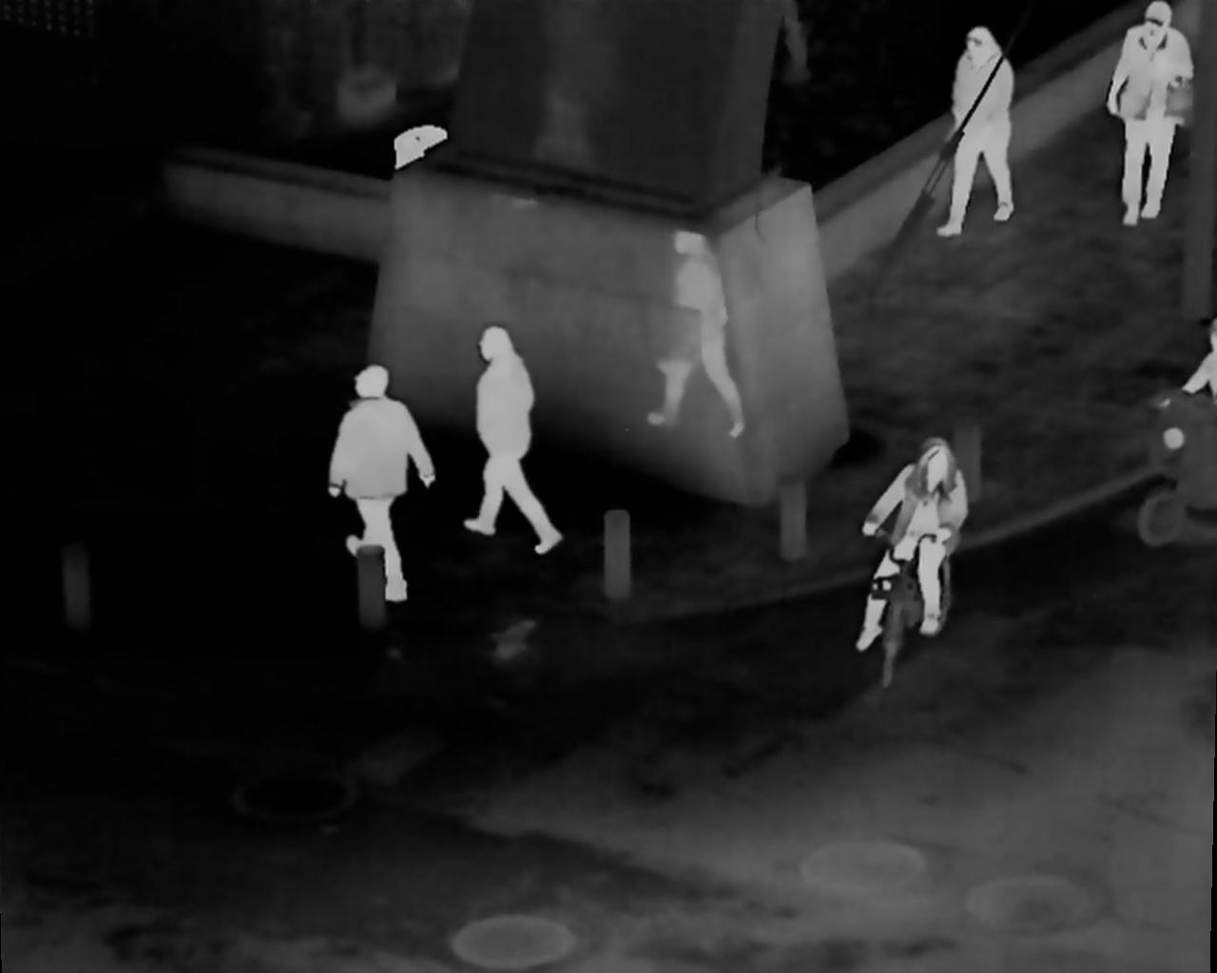person: (336, 360, 431, 607), (469, 324, 557, 562), (854, 447, 963, 639), (935, 29, 1027, 245), (1108, 11, 1194, 241)
